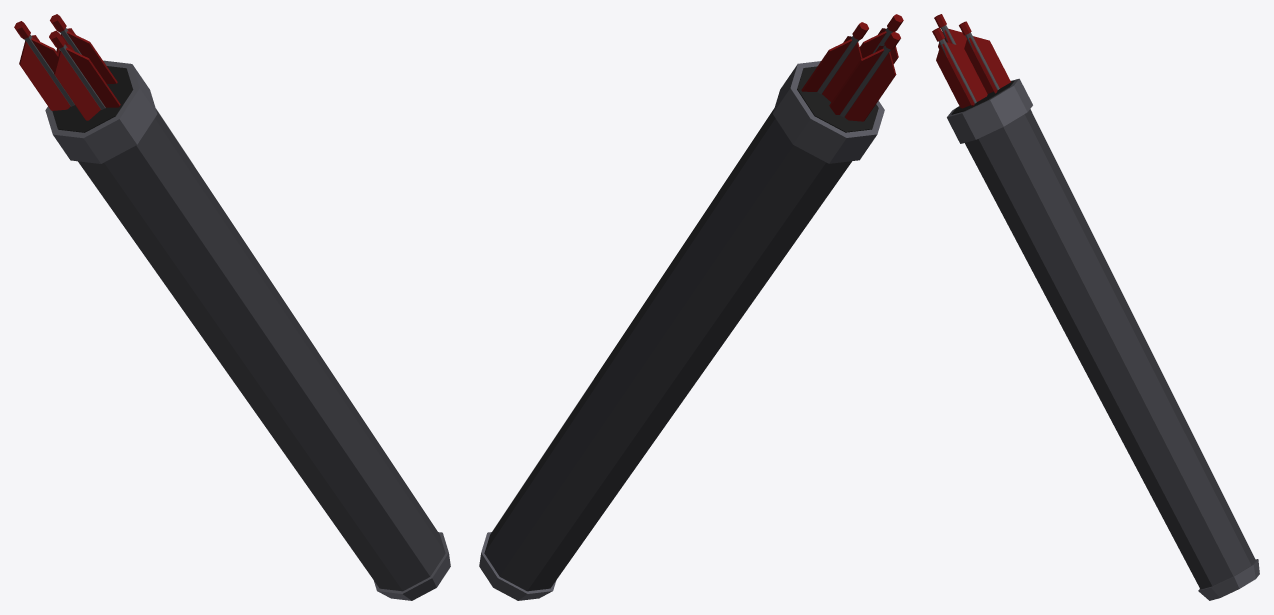
Rendered from Quiver.fbx.
The picture shows the model from 3 angles, left to right: view 1: azimuth 30°, elevation 25°; view 2: azimuth 150°, elevation 25°; view 3: azimuth 330°, elevation 25°; orthographic projection. The views are drawn at different scales.
Parts seen in each view (by area): view 1: Quiver; view 2: Quiver; view 3: Quiver.
Part boxes in pixels (x1,y1,x2,y2): Quiver: [14, 14, 450, 600]; Quiver: [479, 14, 903, 600]; Quiver: [932, 14, 1259, 600].
Bounding box in the file's own units: 0.5249 × 0.7819 × 0.116.
